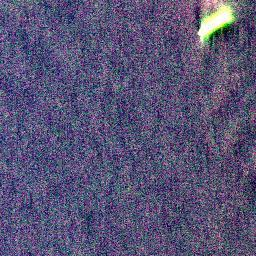Ship: (197, 5, 234, 40)
